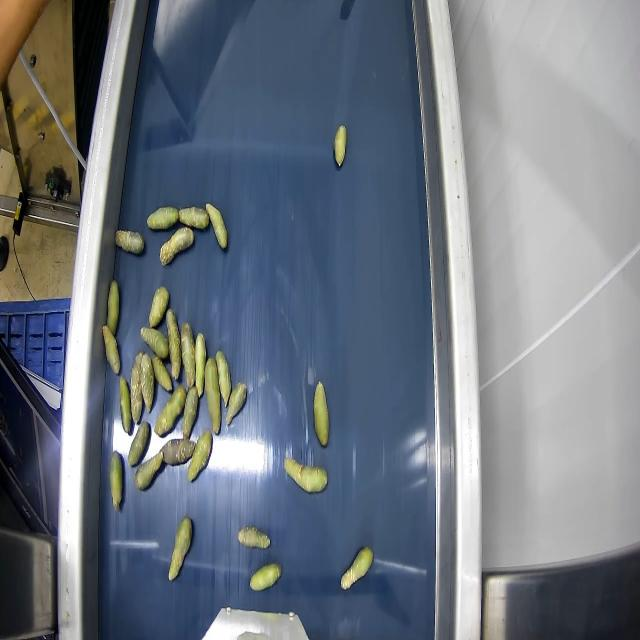Baby Potato: (284, 455, 329, 493), (168, 515, 192, 581), (154, 386, 184, 436), (340, 545, 374, 589), (188, 428, 212, 482), (160, 227, 194, 265), (205, 360, 221, 435), (135, 449, 165, 489), (205, 202, 228, 250), (128, 418, 150, 466), (313, 381, 329, 446), (249, 560, 282, 591), (225, 382, 247, 428), (167, 308, 181, 378), (180, 318, 194, 387), (130, 354, 144, 423), (215, 349, 231, 408), (102, 324, 120, 376), (162, 436, 194, 465), (148, 285, 170, 327), (140, 326, 168, 358), (237, 524, 271, 550), (140, 351, 154, 413), (182, 384, 198, 438), (194, 332, 207, 396), (109, 451, 123, 510), (114, 229, 144, 255), (147, 206, 179, 230), (151, 355, 171, 392), (178, 206, 208, 230), (120, 375, 132, 434), (107, 279, 119, 332), (334, 124, 346, 167)
